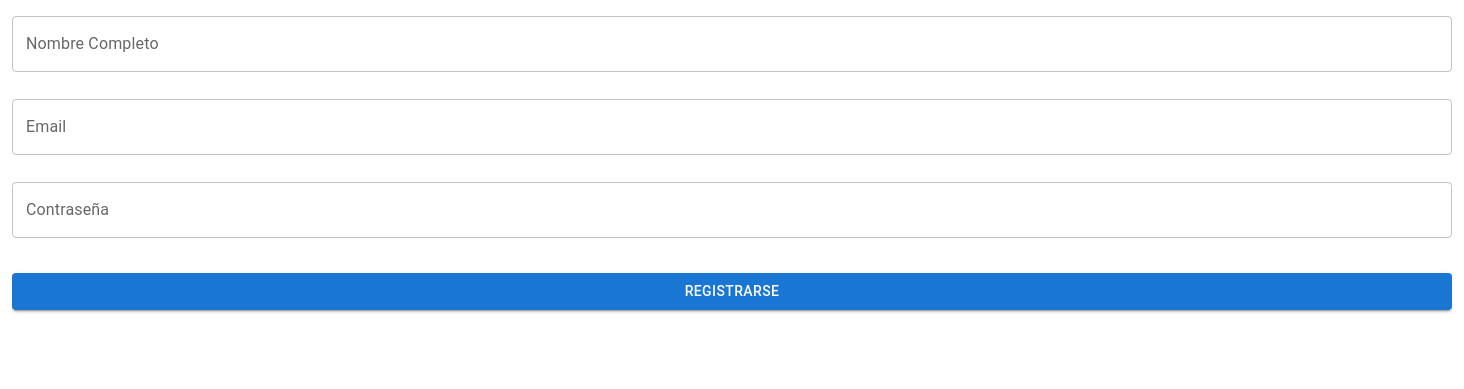
it: RegisterForm › mostrar errores de validación
This screenshot has width=1464, height=389.
What coordinates should you click on to do the following:
click the button "Registrarse"
I would click on:
 (732, 291)
Its box is [12,273,1452,310].
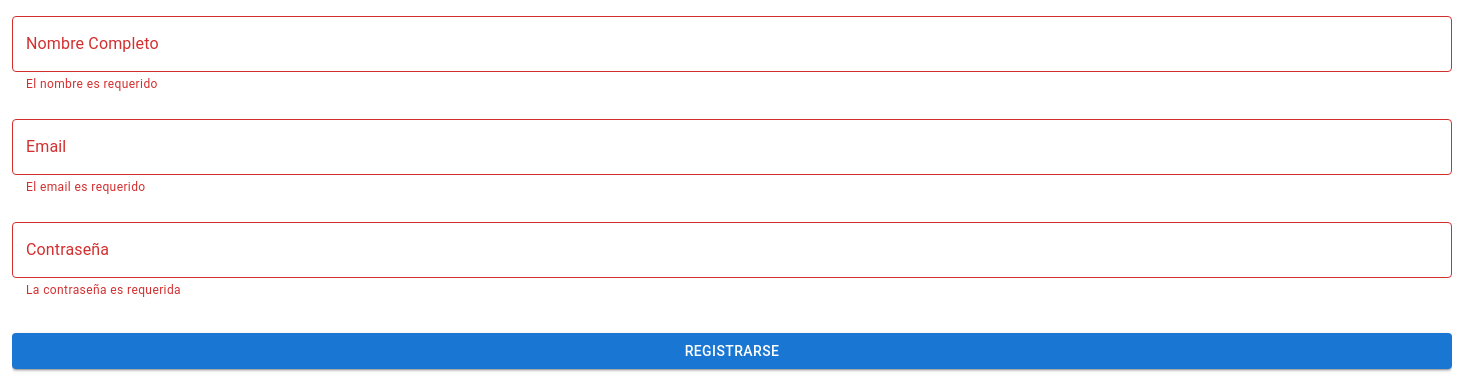
Now the text "El nombre es requerido" is shown, box [26,77,158,91]
Now the text "El email es requerido" is shown, box [26,180,146,194]
Now the text "La contraseña es requerida" is shown, box [26,283,181,297]
